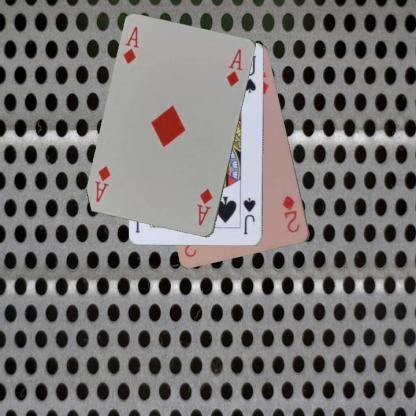2d: (280, 193, 302, 234)
Ad: (120, 24, 140, 66), (194, 186, 214, 227)
Js: (241, 196, 257, 236)
